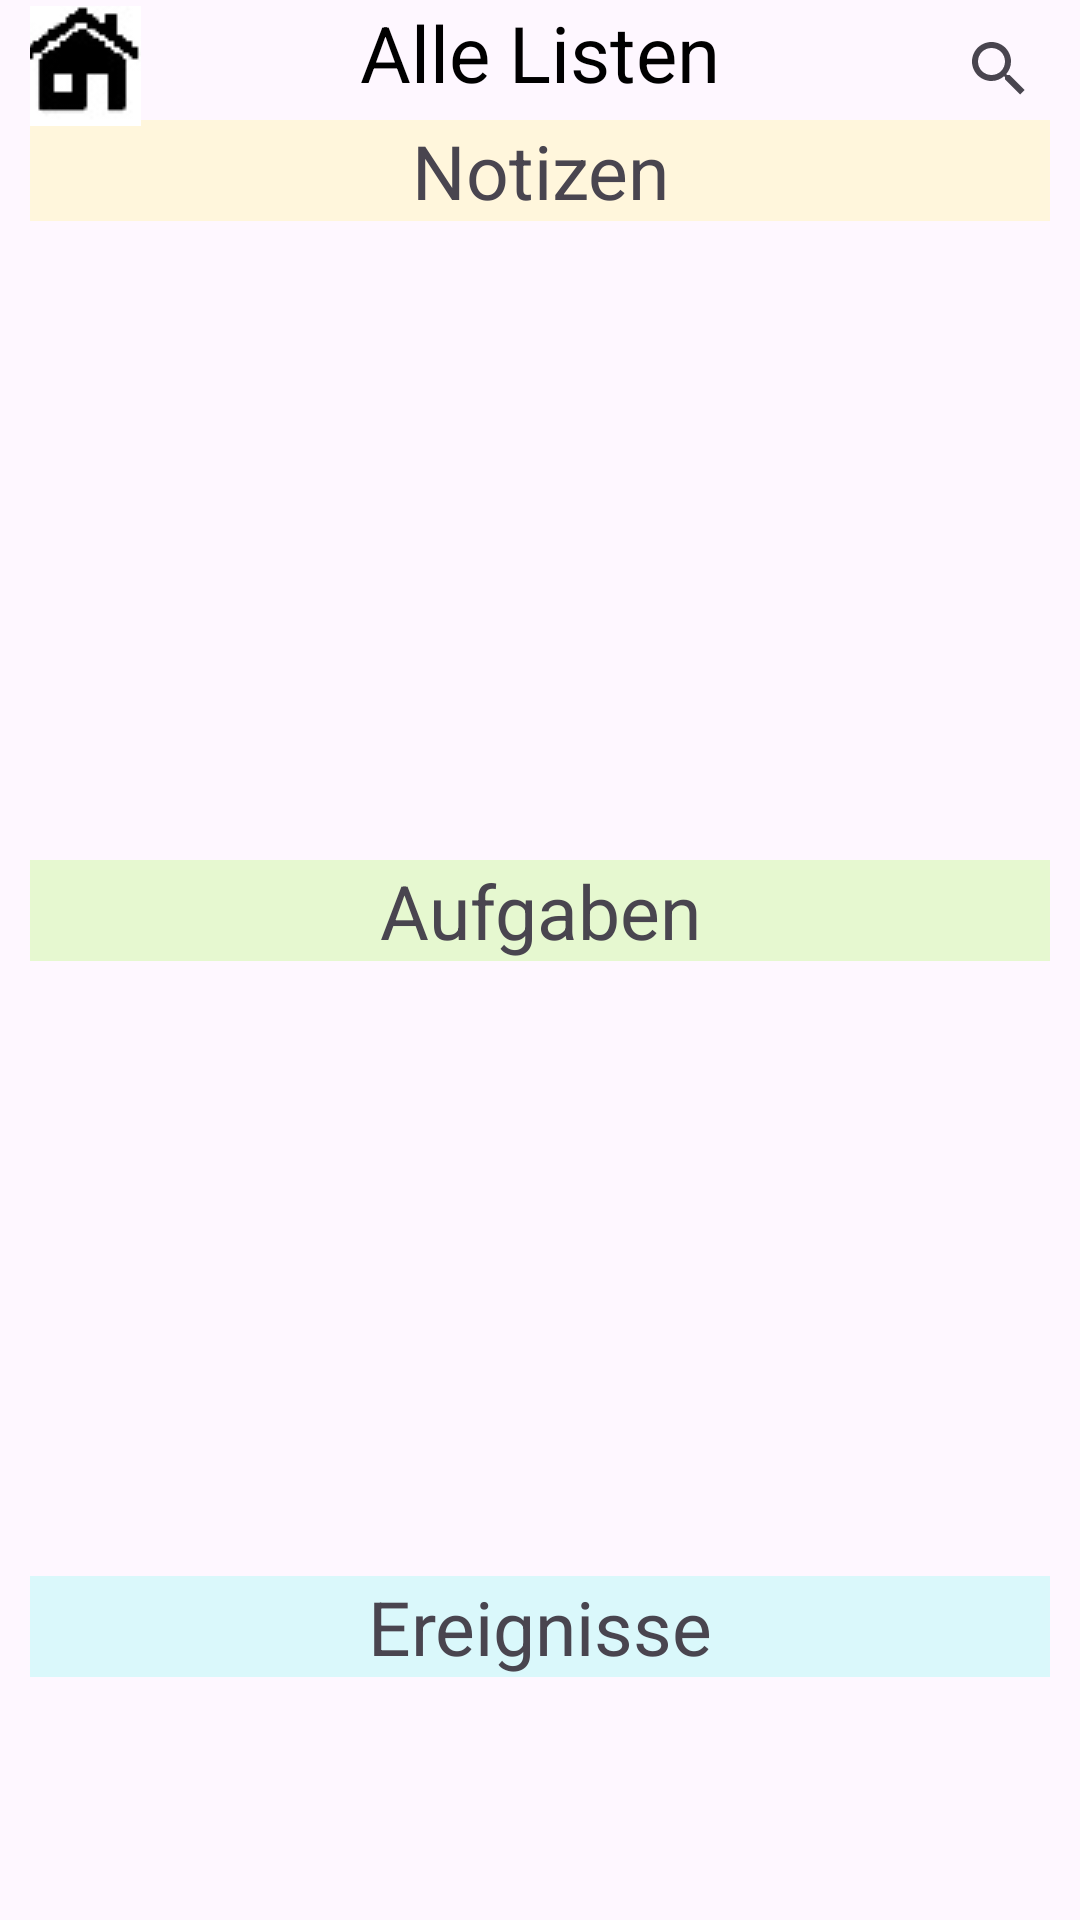

Locate icon controls on the screen. Image size 1080*1920, boxes as (x1, y1, x2, y2).
Zurück zum Home Menue: (30, 7, 139, 112)
